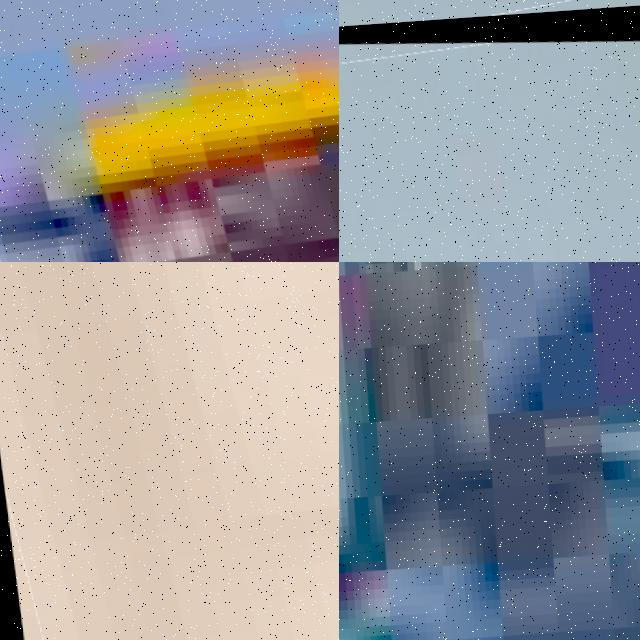drone: (0, 262, 339, 640), (0, 0, 339, 262), (339, 2, 640, 262)
